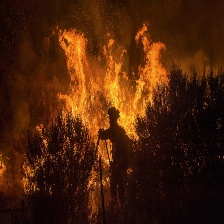fire: (47, 28, 179, 146)
